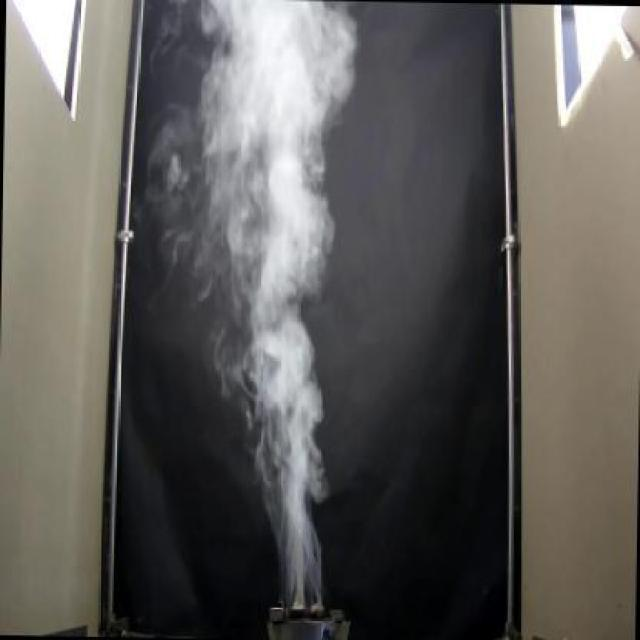fire: (163, 0, 366, 549)
